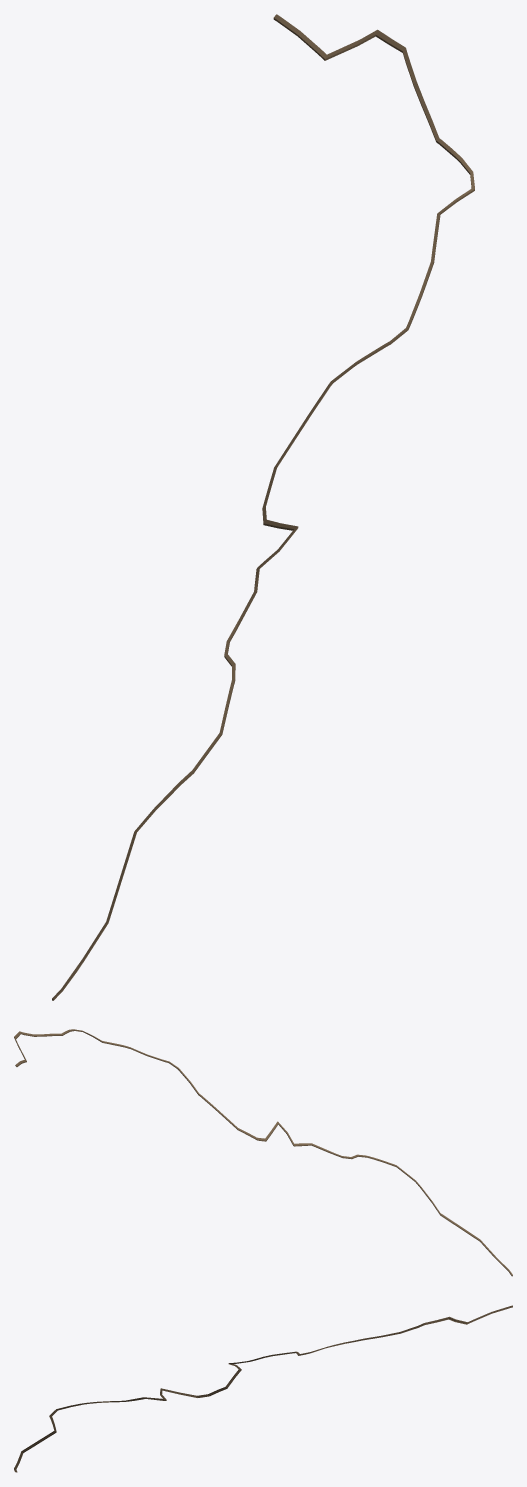
3 renders of one model, top to bottom at view 1: azimuth 30°, elevation 25°; view 2: azimuth 150°, elevation 25°; view 3: azimuth 270°, elevation 25°, orthographic. The views are drawn at different scales.
Size of the model in its own units: 273 by 220 by 273.
